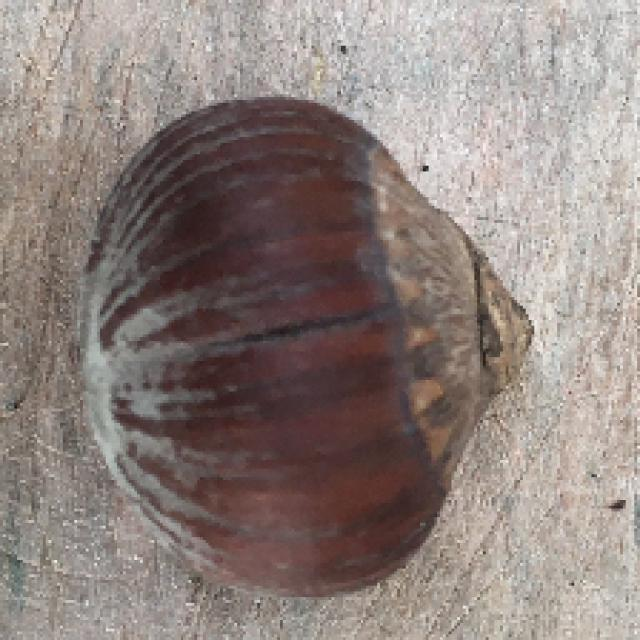damagedHazelnut: (59, 97, 544, 605)
